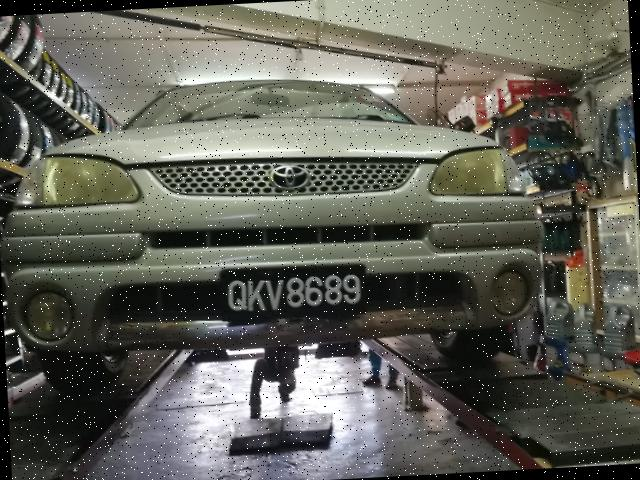License_Plate: (218, 265, 372, 319)
